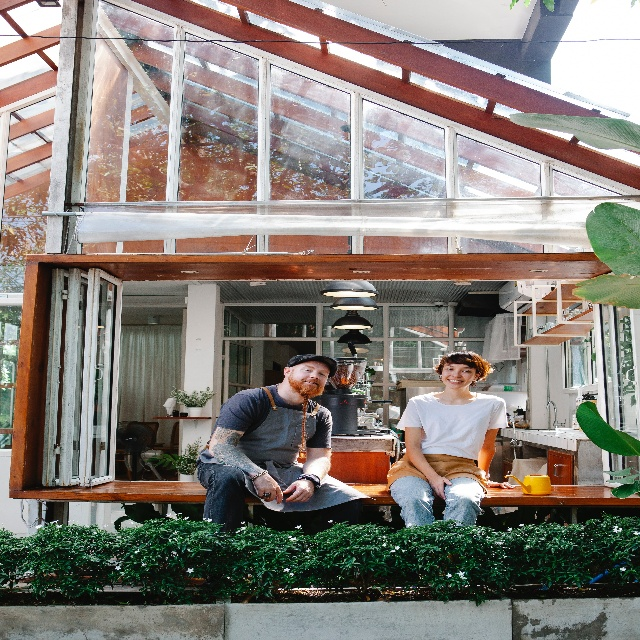Sin_guantes: (253, 472, 283, 505), (282, 479, 315, 503), (428, 473, 452, 501), (486, 479, 515, 490)
